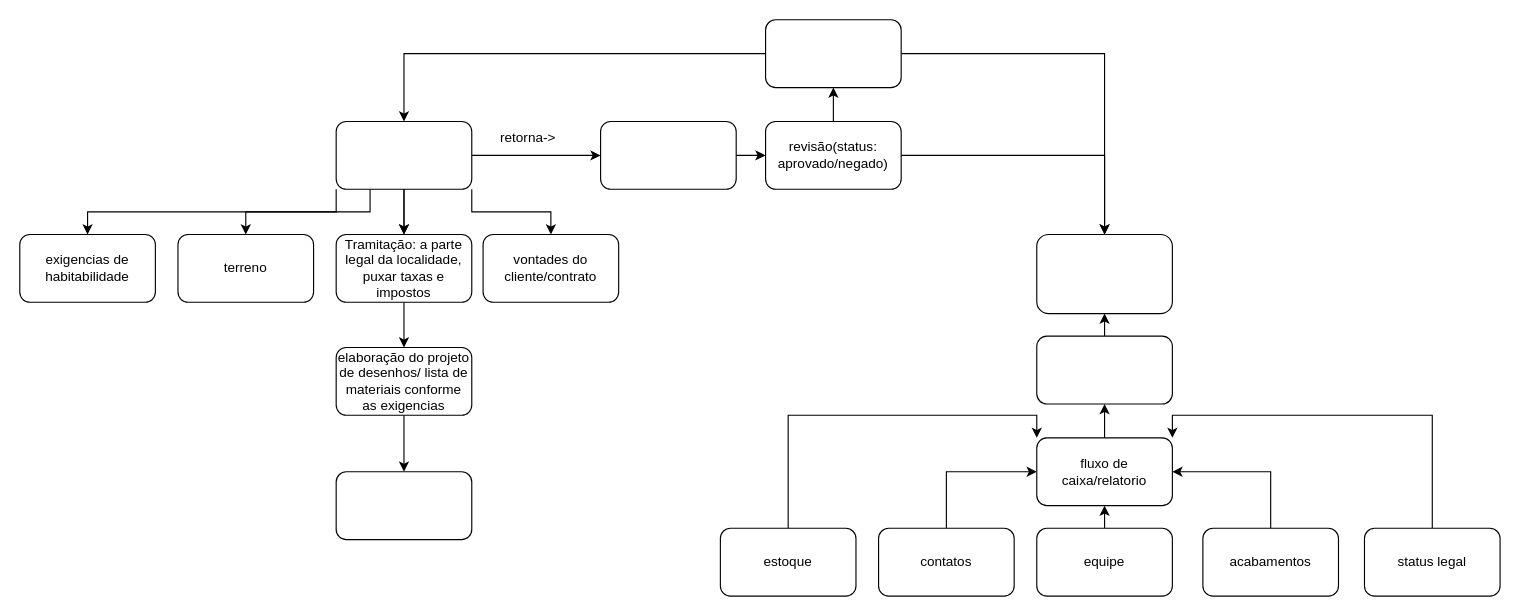
The diagram is 1520 pixels wide and 616 high, and some of its shapes have lost their labels. The shapes that lost their labels are listed below. From the top down, each one's box as (x1, y1, x2, y2) in pixels, then its label:
(764, 19, 901, 88): Projeto
(335, 120, 472, 189): planejamento
(599, 120, 736, 189): cronograma
(1036, 233, 1172, 314): tramitação(status: executando/planejando
(1036, 335, 1172, 404): caixa/relatorio
(335, 471, 472, 540): Puxar valores da SINAPI e verificar mão de obra
